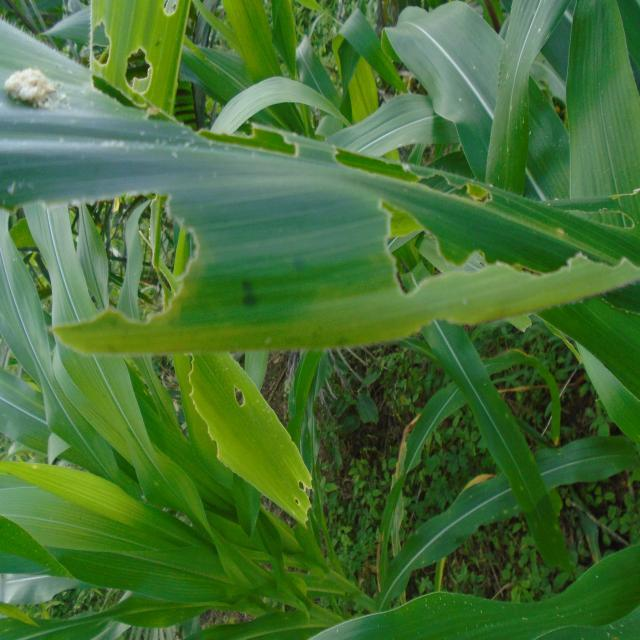fall-armyworm-egg: (0, 0, 640, 640)
fall-armyworm-larval-damage: (0, 0, 640, 640)
